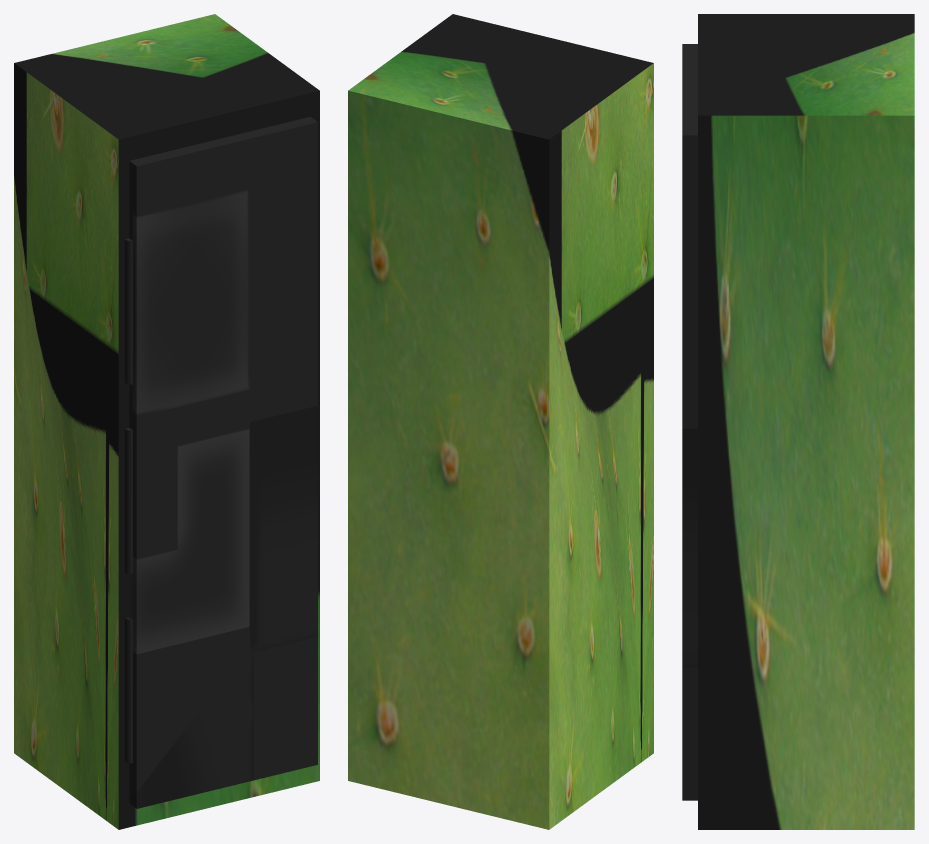
File: Chest1.FBX
3 views of the same model, side by side, from view 1: azimuth 30°, elevation 25°; view 2: azimuth 150°, elevation 25°; view 3: azimuth 270°, elevation 25° (orthographic). The views are drawn at different scales.
Visible parts, largest first — view 1: chestdoor1, chestbox1; view 2: chestbox1; view 3: chestbox1, chestdoor1.
Boxes of the visible parts, x1,y1,x2,y2 form: chestdoor1: (124, 116, 317, 808); chestbox1: (14, 14, 319, 829); chestbox1: (348, 14, 653, 829); chestbox1: (698, 14, 914, 829); chestdoor1: (682, 44, 697, 800).
Size of the model in its own units: 18.44 by 60.52 by 17.81.
2 materials, 2 textured.
